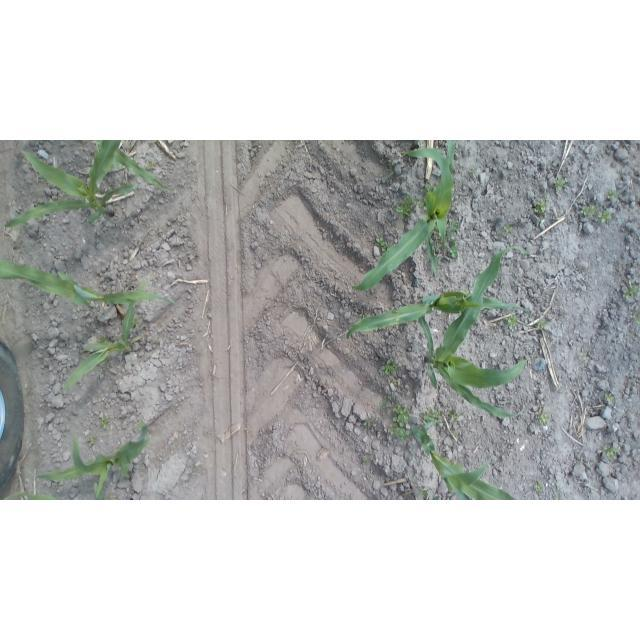Maize: (410, 245, 535, 426), (350, 142, 468, 295), (3, 141, 153, 232), (55, 279, 153, 401), (0, 252, 182, 313), (343, 288, 534, 342), (28, 418, 153, 500), (407, 416, 526, 500), (116, 142, 168, 192)
Weeds: (388, 403, 412, 445), (395, 193, 420, 221), (533, 198, 551, 226), (441, 233, 460, 259), (417, 409, 441, 428), (621, 280, 640, 303), (502, 311, 521, 330), (381, 359, 399, 378), (601, 444, 619, 462), (535, 407, 552, 426), (448, 219, 464, 237), (375, 235, 394, 250), (144, 158, 160, 175), (596, 209, 613, 225), (580, 205, 599, 219), (605, 187, 621, 203), (553, 173, 567, 191), (533, 316, 547, 334), (465, 164, 481, 179), (602, 389, 616, 406), (446, 408, 463, 422), (532, 480, 547, 495), (153, 337, 168, 351), (423, 182, 438, 196), (501, 222, 515, 236), (97, 332, 112, 345), (99, 415, 112, 429), (377, 398, 391, 411), (133, 315, 145, 330), (132, 421, 148, 432), (86, 435, 99, 448), (359, 452, 372, 465), (579, 350, 592, 362), (630, 311, 640, 326), (362, 419, 375, 430), (417, 488, 430, 498), (449, 431, 460, 442), (384, 394, 396, 403), (129, 490, 140, 498), (391, 379, 400, 387)
